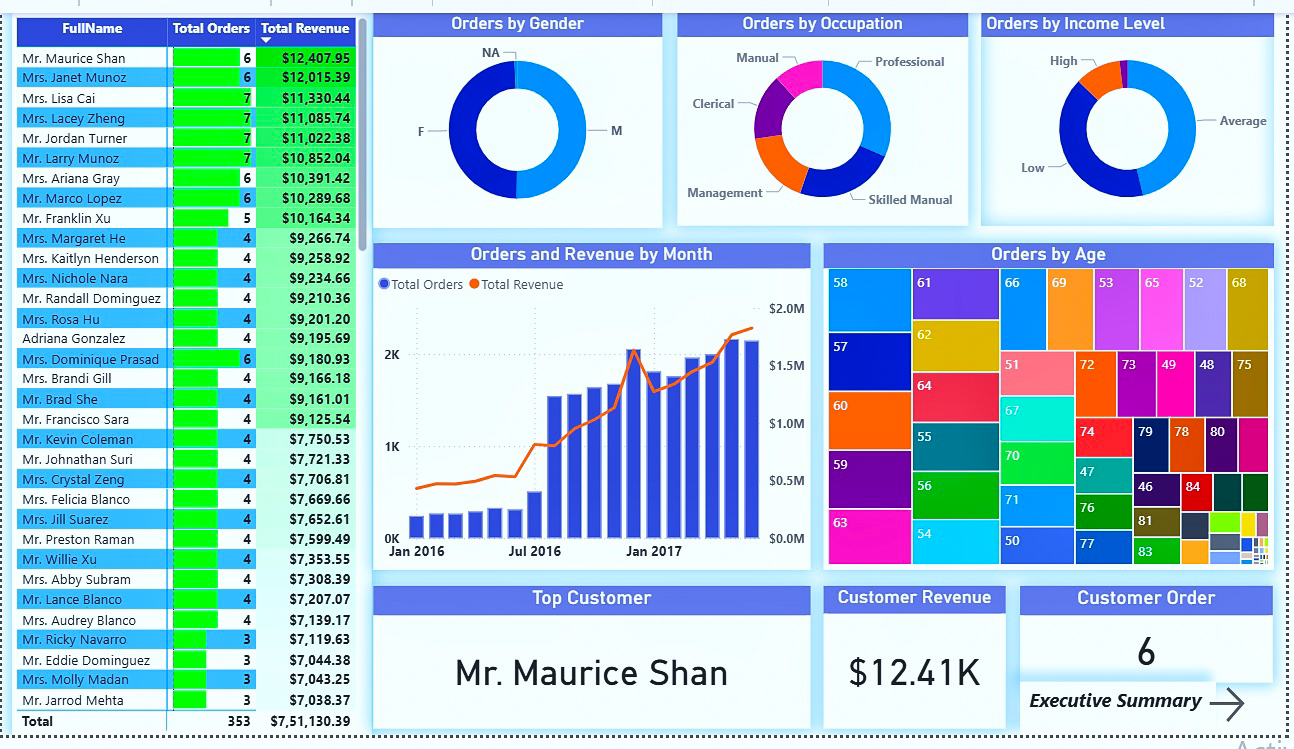

The page's visual inventory and layout, read from the dashboard file:
{"tool":"powerbi","page":{"name":"Customer Detail","canvas":[1280,720],"ordinal":1},"visuals":[{"type":"pivotTable","fields":{"Rows":["AW_Customer_Lookup.FullName"],"Values":["AW_Sales.Total Orders","AW_Sales.Total Revenue"]},"box":[10.8,0,358.5,720],"z":0},{"type":"donutChart","title":"Orders by Income Level","fields":{"Category":["AW_Customer_Lookup.Income_Level"],"Y":["AW_Sales.Total Orders"]},"box":[975.3,0,291.7,212.1],"z":1000},{"type":"donutChart","title":"Orders by Occupation","fields":{"Y":["AW_Sales.Total Orders"],"Category":["AW_Customer_Lookup.Occupation"]},"box":[672.3,0,289.8,212.1],"z":2000},{"type":"donutChart","title":"Orders by Gender","fields":{"Y":["AW_Sales.Total Orders"],"Category":["AW_Customer_Lookup.Gender"]},"box":[369.3,0,287.9,214],"z":3000},{"type":"lineClusteredColumnComboChart","title":"Orders and Revenue by Month","fields":{"Y":["AW_Sales.Total Orders"],"Category":["AW_Calendar_Lookup.Start of Month"],"Y2":["AW_Sales.Total Revenue"]},"box":[369.3,229.2,435.6,325.7],"z":4000},{"type":"treemap","title":"Orders by Age","fields":{"Values":["AW_Sales.Total Orders"],"Group":["AW_Customer_Lookup.Current Age"]},"box":[818.2,229.2,448.8,325.7],"z":5000},{"type":"card","title":"Top Customer","fields":{"Values":["AW_Customer_Lookup.FullName"]},"box":[369.3,570.1,435.6,142],"z":6000},{"type":"card","title":"Customer Order","fields":{"Values":["AW_Sales.Total Orders"]},"box":[1015.1,570.1,251.9,96.6],"z":7000},{"type":"card","title":"Customer Revenue","fields":{"Values":["AW_Sales.Total Revenue"]},"box":[818.2,570.1,181.8,142],"z":8000},{"type":"textbox","box":[1015.1,666.6,195.1,53],"z":9000},{"type":"actionButton","box":[1196.9,666.6,83.3,45.5],"z":10000}]}

Visuals, with their boxes on the page's 1280x720 design canvas (x1, y1, x2, y2). These are canvas units, not pixel positions in the 1294x749 screenshot, which may show the page scaled, cropped or inside an application window:
pivotTable - AW_Customer_Lookup.FullName x AW_Sales.Total Orders: 11, 0, 369, 720
"Orders by Income Level" donutChart: 975, 0, 1267, 212
"Orders by Occupation" donutChart: 672, 0, 962, 212
"Orders by Gender" donutChart: 369, 0, 657, 214
"Orders and Revenue by Month" lineClusteredColumnComboChart: 369, 229, 805, 555
"Orders by Age" treemap: 818, 229, 1267, 555
"Top Customer" card: 369, 570, 805, 712
"Customer Order" card: 1015, 570, 1267, 667
"Customer Revenue" card: 818, 570, 1000, 712
textbox: 1015, 667, 1210, 720
actionButton: 1197, 667, 1280, 712
